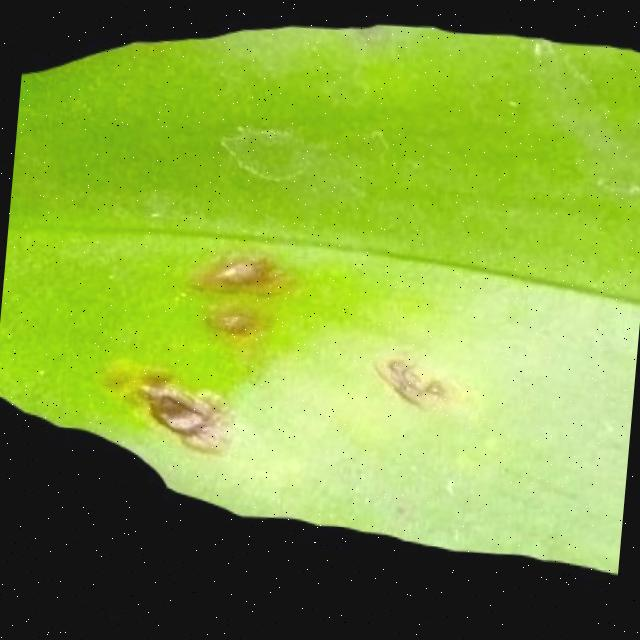mite: (89, 108, 509, 491), (173, 236, 308, 363), (139, 385, 219, 444), (202, 307, 274, 345), (111, 619, 176, 625)
